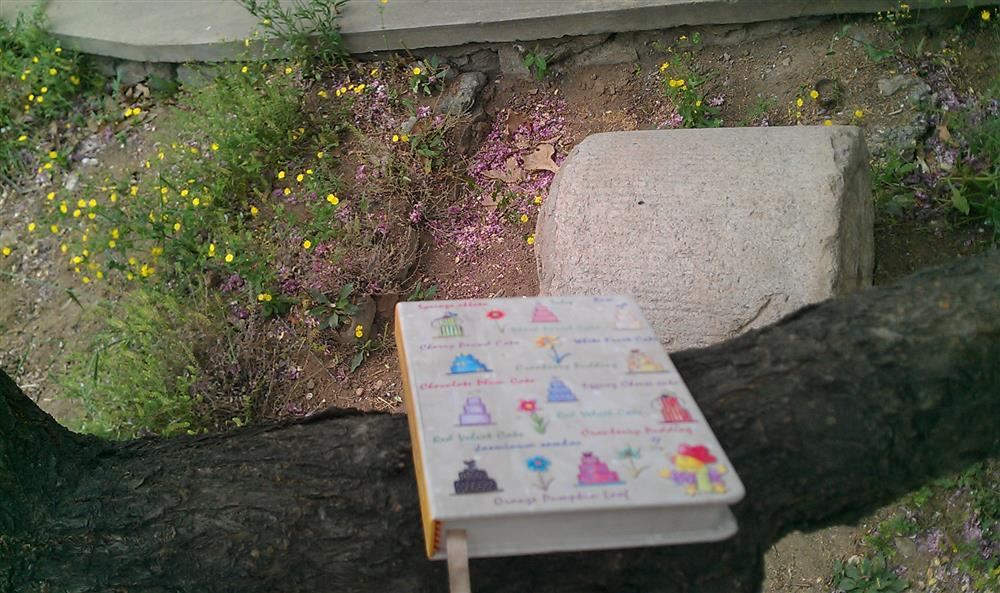notebook: (385, 288, 754, 565)
